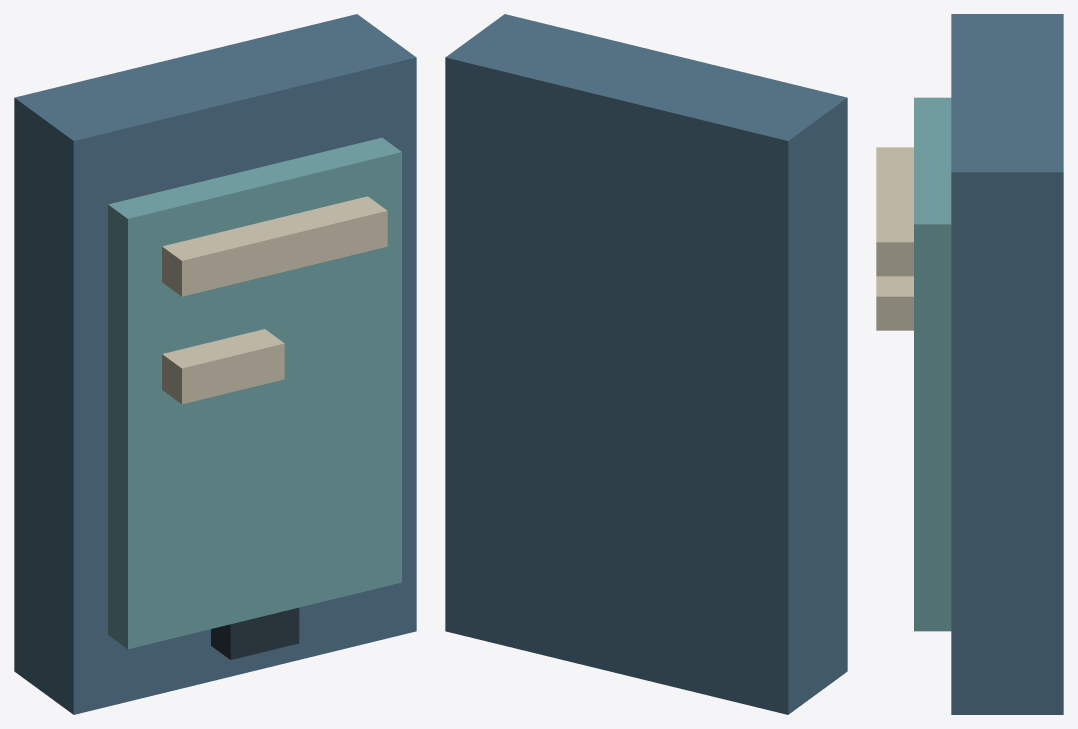
The model's file is security-13.glb.
3 renders of one model, left to right at view 1: azimuth 30°, elevation 25°; view 2: azimuth 150°, elevation 25°; view 3: azimuth 270°, elevation 25°, orthographic. The views are drawn at different scales.
Parts seen in each view (by area): view 1: Secure phone; view 2: Secure phone; view 3: Secure phone.
Part boxes in pixels (<box>): Secure phone: <box>14,14,416,714</box>; Secure phone: <box>445,14,847,714</box>; Secure phone: <box>876,14,1063,714</box>.
Size of the model in its own units: 0.8 by 1.28 by 0.4.
